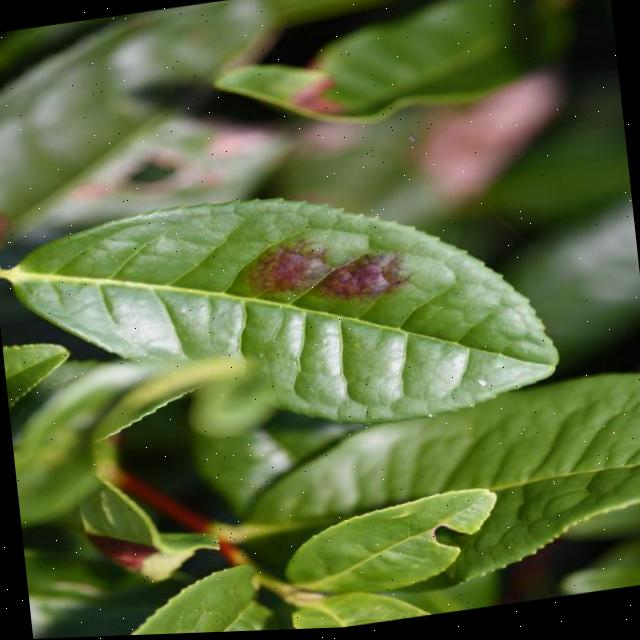Tea exobasidium blight: (255, 223, 405, 321)
